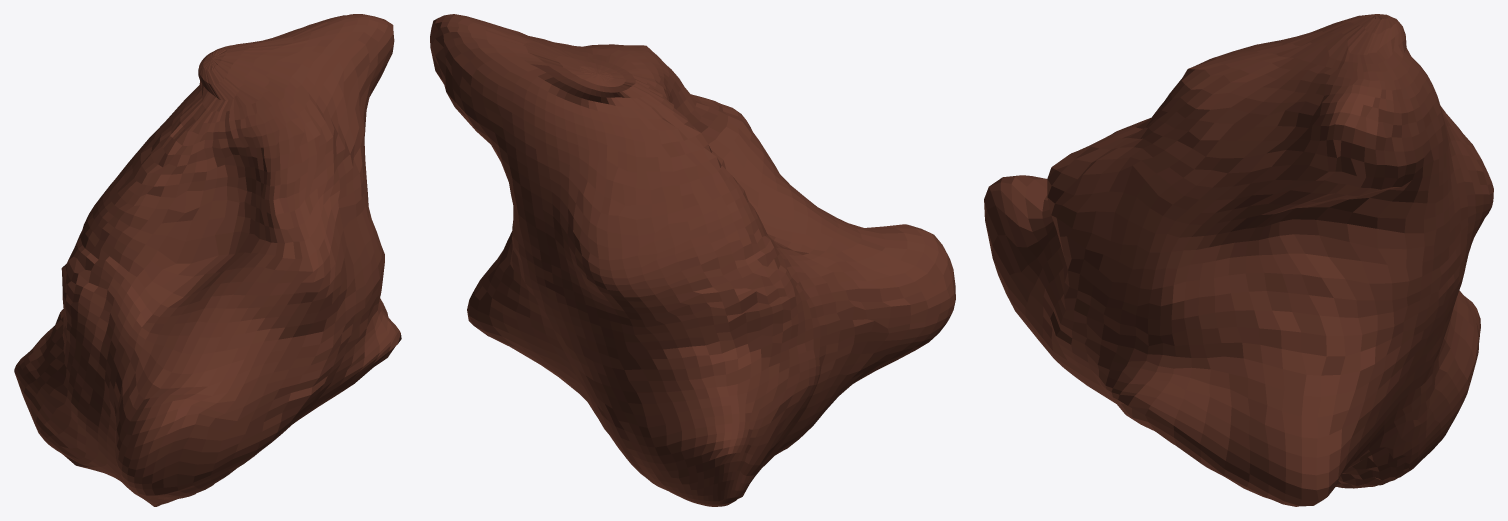
Rendered from Himlakropp1.fbx.
3 views of the same model, side by side, from view 1: azimuth 30°, elevation 25°; view 2: azimuth 150°, elevation 25°; view 3: azimuth 270°, elevation 25° (orthographic). The views are drawn at different scales.
Visible parts, largest first — view 1: Himlakropp1; view 2: Himlakropp1; view 3: Himlakropp1.
Part boxes in pixels (bbox=[...]): Himlakropp1: bbox=[14, 14, 401, 506]; Himlakropp1: bbox=[430, 14, 955, 506]; Himlakropp1: bbox=[984, 14, 1493, 506].
Size of the model in its own units: 2580 by 2520 by 2187.
